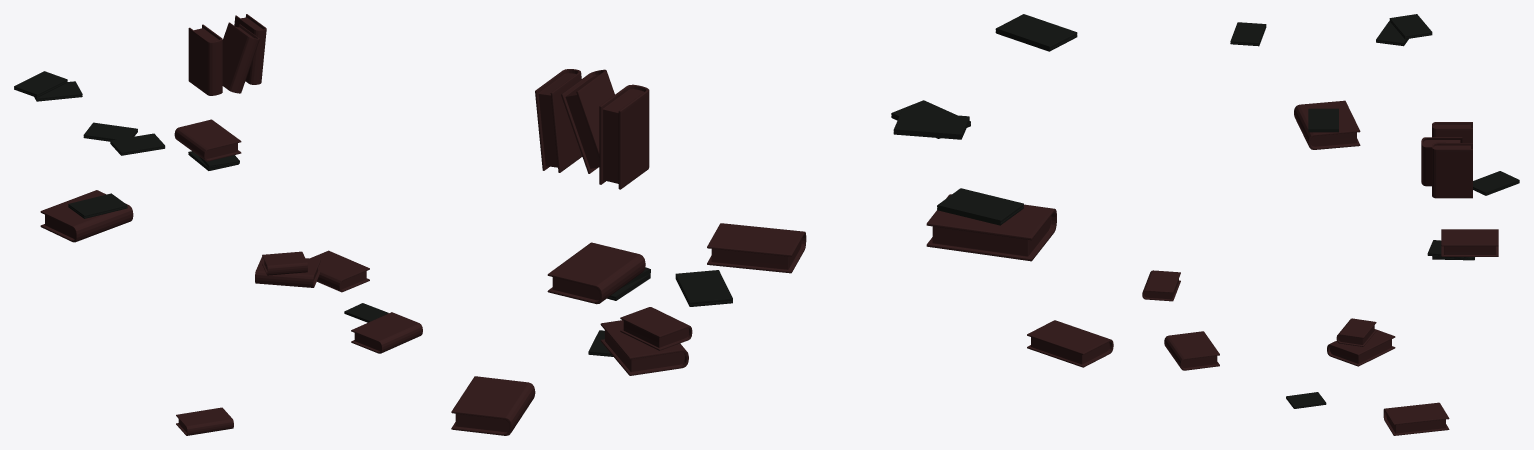
File: BooksAndDVDsTexture.obj
3 renders of one model, left to right at view 1: azimuth 30°, elevation 25°; view 2: azimuth 150°, elevation 25°; view 3: azimuth 270°, elevation 25°, orthographic. The views are drawn at different scales.
Visible parts, largest first — view 1: Books Book10, Book1 Books, Books Book3, Books Book8, Books Book4, Books Book5, Books Book9, Books Book6, Books Book2, Books Book7, DVDCase4 DVDCases, DVDCases DVDCase8 (+4 smaller); view 2: Books Book10, Book1 Books, Books Book8, Books Book4, Books Book5, Books Book2, Books Book3, Books Book9, Books Book6, Books Book7, DVDCase4 DVDCases, DVDCases DVDCase8 (+2 smaller); view 3: Books Book2, Books Book10, Books Book5, Books Book8, Books Book4, Books Book6, Books Book9, Books Book7, DVDCase4 DVDCases, DVDCases DVDCase6, Books Book3, DVDCases DVDCase7 (+4 smaller).
Part boxes in pixels (x1,y1,x2,y2): Books Book10: (40,190,133,242); Book1 Books: (188,24,222,95); Books Book3: (222,22,259,93); Books Book8: (351,312,422,353); Books Book4: (174,119,241,161); Books Book5: (310,250,369,292); Books Book9: (176,407,233,435); Books Book6: (255,256,320,287); Books Book2: (234,14,266,84); Books Book7: (262,251,307,275); DVDCase4 DVDCases: (68,193,127,218); DVDCases DVDCase8: (110,133,165,155); Books Book10: (926,194,1056,261); Book1 Books: (599,84,649,189); Books Book8: (707,223,806,273); Books Book4: (547,242,645,304); Books Book5: (451,376,535,435); Books Book2: (535,69,582,172); Books Book3: (561,69,614,173); Books Book9: (1027,320,1113,367); Books Book6: (600,320,688,375); Books Book7: (620,307,692,350); DVDCase4 DVDCases: (937,188,1023,225); DVDCases DVDCase8: (995,14,1077,51); Books Book2: (1432,142,1472,198); Books Book10: (1294,100,1360,149); Books Book5: (1383,402,1449,435); Books Book8: (1164,331,1219,370); Books Book4: (1441,229,1498,256); Books Book6: (1327,329,1395,366); Books Book9: (1142,270,1180,301); Books Book7: (1336,318,1376,346); DVDCase4 DVDCases: (1308,108,1338,132); DVDCases DVDCase6: (1389,14,1432,39); Books Book3: (1421,137,1462,186); DVDCases DVDCase7: (1473,171,1519,195).
Size of the model in its own units: 3.72 by 2.7 by 3.55.
